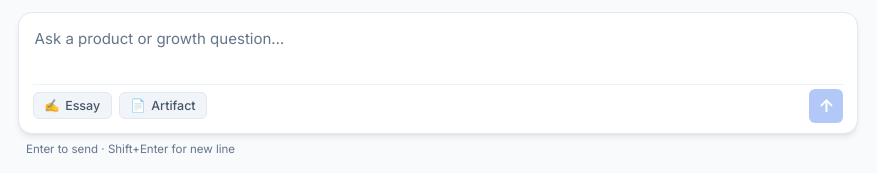
Composer - Artifact Mode › clicking Artifact button activates Artifact Mode without submitting
Step 1. Click the button with aria-label "generate an artifact" → (163, 106), box [119,92,207,119]
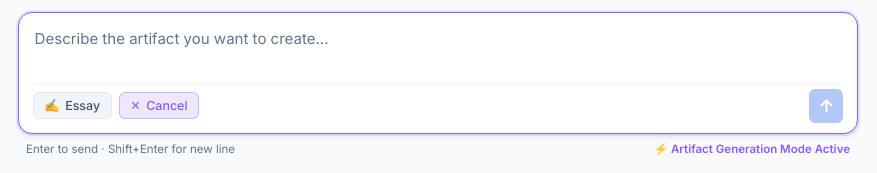
Expected: the text box with placeholder "Describe the artifact you want to create..." is shown, [33,25,843,76]
Expected: the button with aria-label "cancel artifact mode" is shown, [119,92,199,119]
